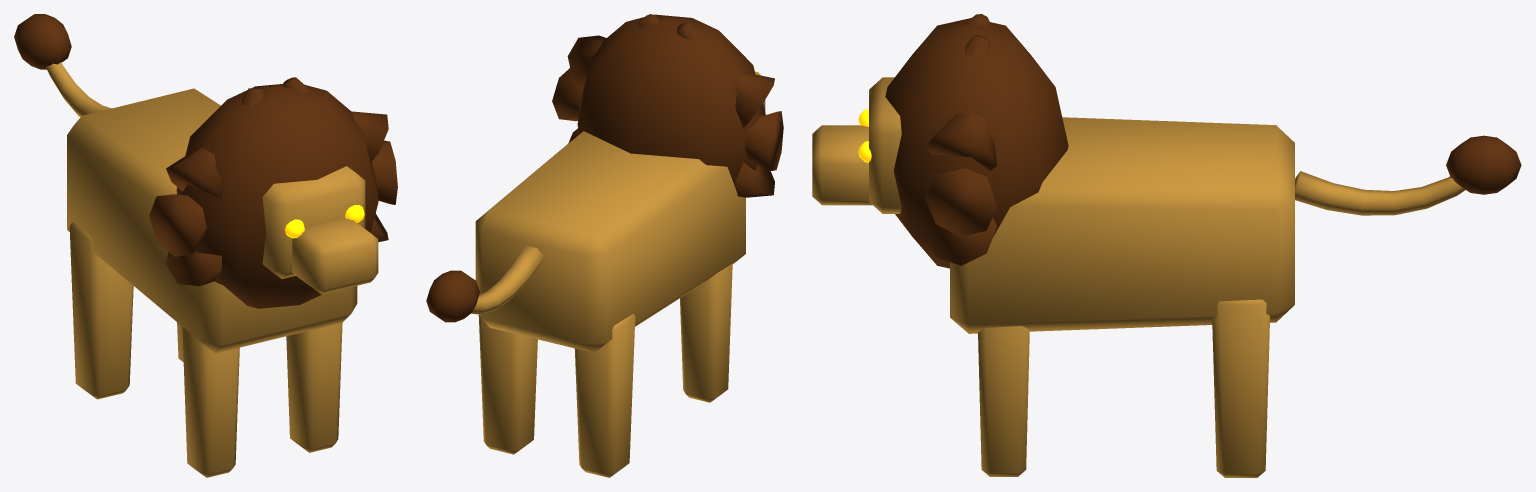
Rendered from lion.glb.
3 renders of one model, left to right at view 1: azimuth 30°, elevation 25°; view 2: azimuth 150°, elevation 25°; view 3: azimuth 270°, elevation 25°, orthographic. The views are drawn at different scales.
Parts seen in each view (by area): view 1: Head, Body, LeftLeg, LeftArm, RightArm, Tail; view 2: Body, Head, LeftLeg, RightLeg, LeftArm, Tail; view 3: Body, Head, RightLeg, Tail, RightArm.
Part boxes in pixels (x1,y1,x2,y2): Head: [149, 77, 397, 308]; Body: [67, 88, 357, 353]; LeftLeg: [69, 222, 133, 399]; LeftArm: [182, 327, 239, 477]; RightArm: [286, 322, 342, 452]; Tail: [14, 14, 111, 117]; Body: [475, 131, 745, 352]; Head: [552, 14, 783, 197]; LeftLeg: [574, 314, 635, 477]; RightLeg: [478, 315, 537, 454]; LeftArm: [680, 263, 732, 402]; Tail: [426, 245, 544, 322]; Body: [950, 117, 1294, 333]; Head: [812, 14, 1068, 268]; RightLeg: [1212, 299, 1269, 477]; Tail: [1295, 135, 1521, 215]; RightArm: [978, 326, 1029, 476].
Size of the model in its own units: 1.09 by 1.71 by 2.63.
